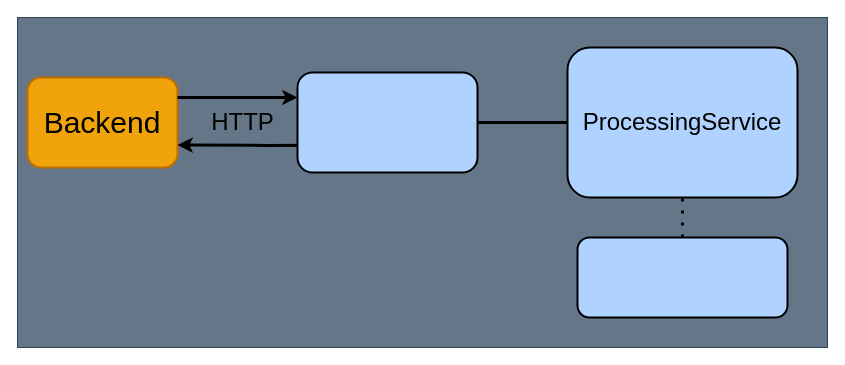
This 845x365 diagram has some shape labels left out. The box of each missing label's shape, as (x1, y1, x2, y2) in pixels:
Processor.API: (296, 71, 478, 173)
ValidationService: (576, 236, 788, 318)
